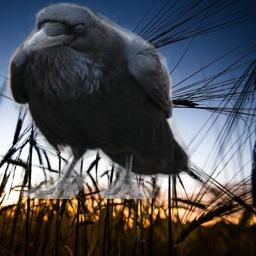Crow: (6, 2, 191, 199)
